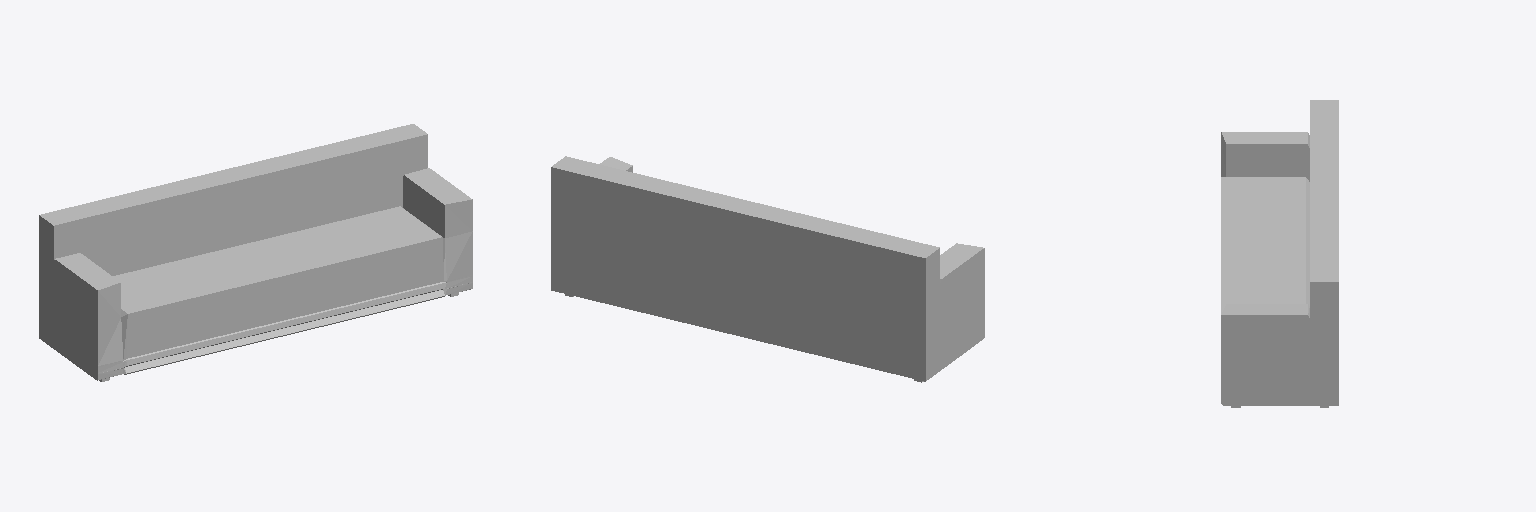
The model's file is obj_Sofa_Blocado.obj.
3 views of the same model, side by side, from view 1: azimuth 30°, elevation 25°; view 2: azimuth 150°, elevation 25°; view 3: azimuth 270°, elevation 25° (orthographic).
Visible parts, largest first — view 1: Sofa1; view 2: Sofa1; view 3: Sofa1.
Boxes of the visible parts, x1,y1,x2,y2 form: Sofa1: [39, 124, 472, 381]; Sofa1: [551, 156, 984, 382]; Sofa1: [1221, 100, 1338, 407].
Bounding box in the file's own units: 293 × 97.22 × 80.56.